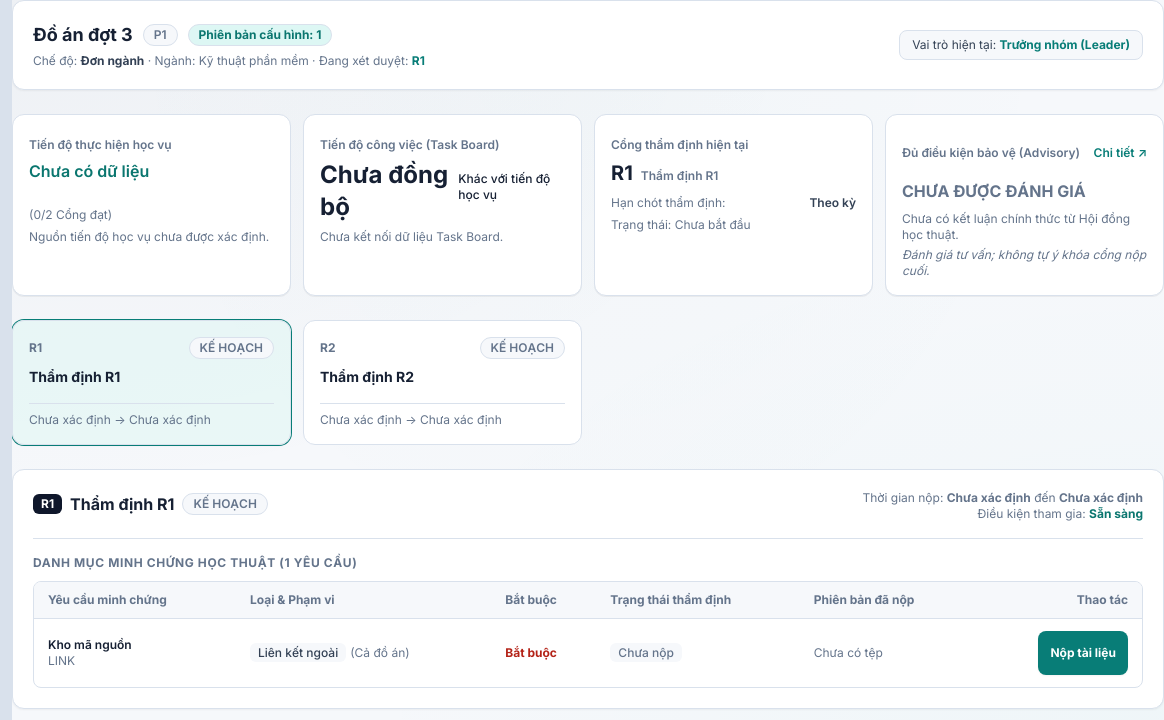
Test: R3-05 supervisor advice › shows only supervisor feedback for the currently selected gate
expect the text "Nhận xét chỉ dành cho R2" is not shown: met
Click the button "R2 KẾ HOẠCH Thẩm định R2 Chưa xác định → Chưa xác định" at (522, 348), box [303,320,582,445]
(page scrolled)
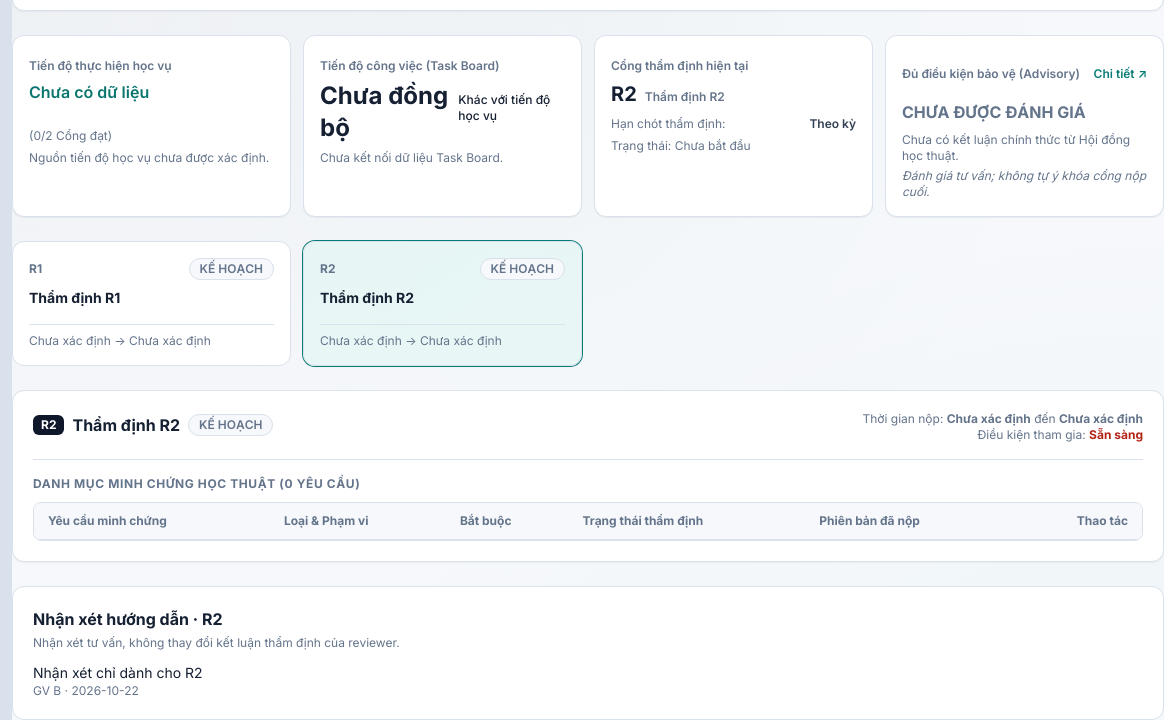
expect the text "Nhận xét chỉ dành cho R2" is shown: met, box [33,664,203,681]
